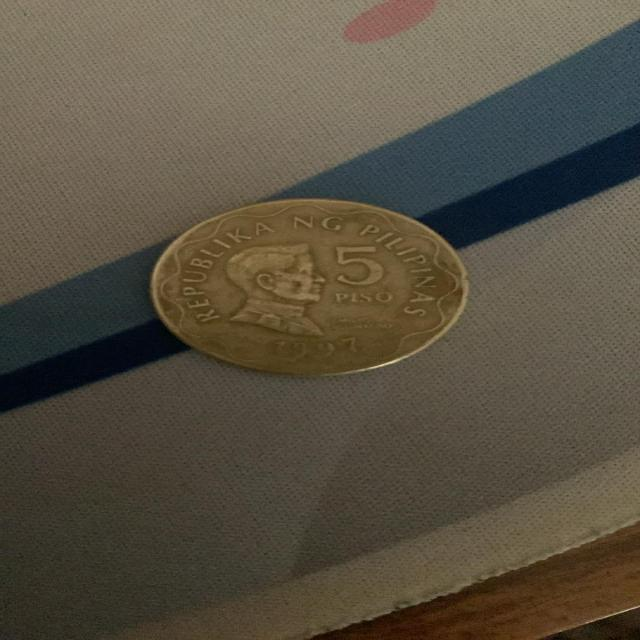5 peso-old: (148, 186, 478, 388)
